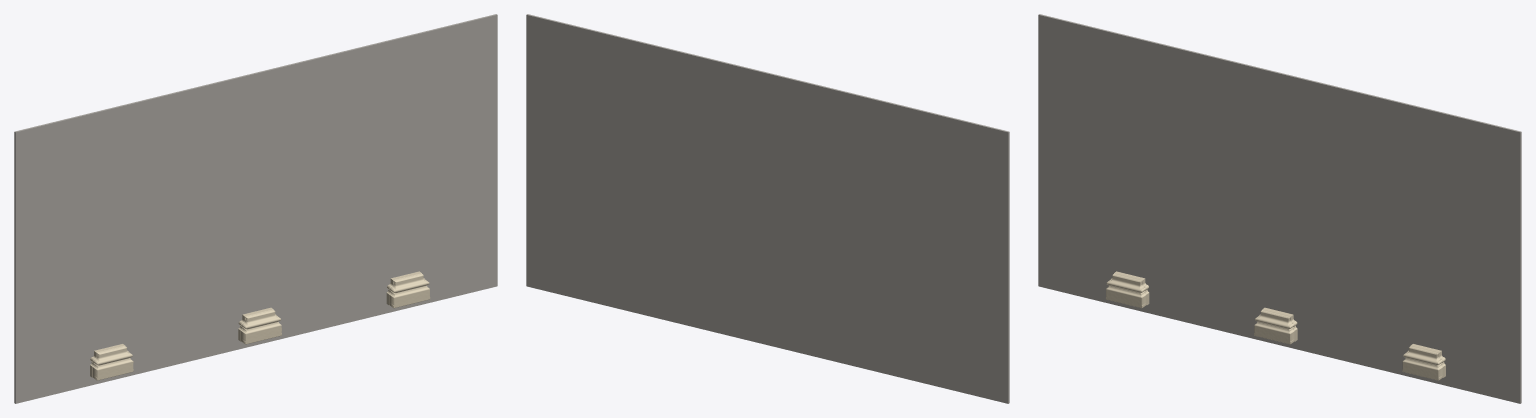
File: terilgan.glb
3 views of the same model, side by side, from view 1: azimuth 30°, elevation 25°; view 2: azimuth 150°, elevation 25°; view 3: azimuth 330°, elevation 25° (orthographic).
Parts seen in each view (by area): view 1: Devor, t2, t0, t1; view 2: Devor; view 3: Devor, t0, t2, t1.
Part boxes in pixels (x1,y1,x2,y2): Devor: (14,14,497,403); t2: (386,271,430,308); t0: (90,344,133,380); t1: (238,307,281,344); Devor: (526,14,1009,403); Devor: (1038,14,1521,403); t0: (1105,271,1149,308); t2: (1402,344,1445,380); t1: (1254,307,1297,344).
Bounding box in the file's own units: 2.6 × 1.4 × 0.077.
